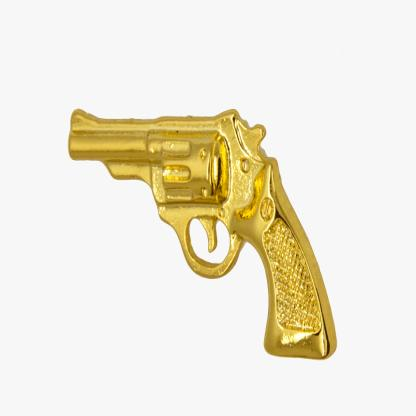handgun: (69, 106, 337, 359)
